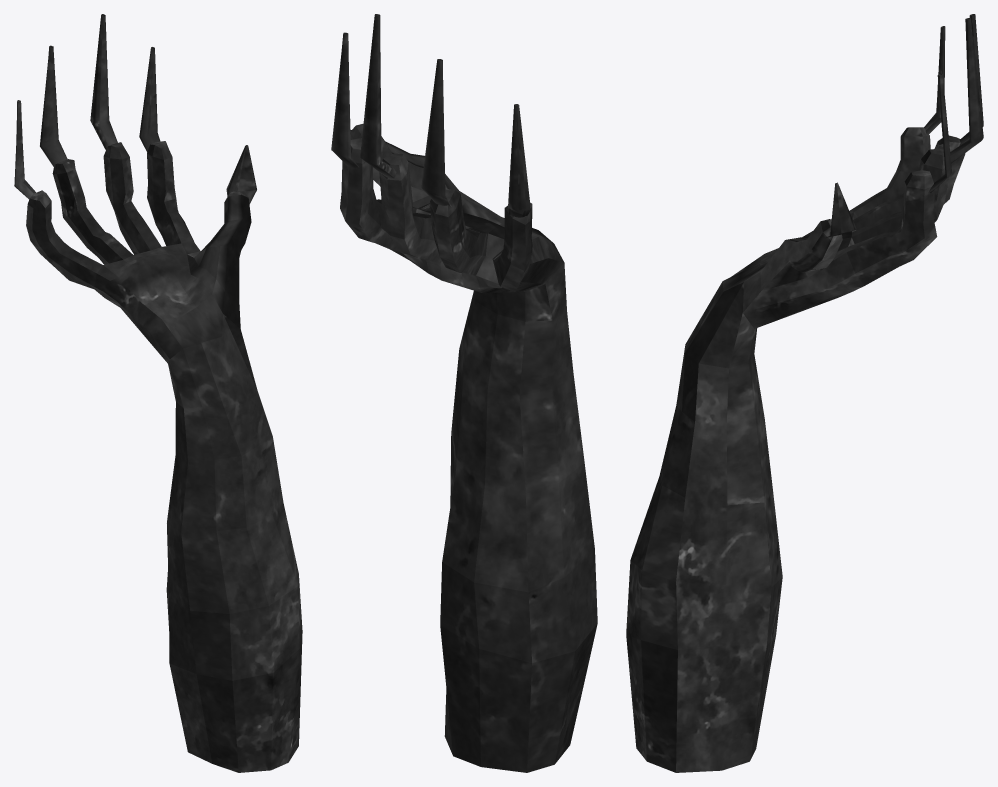
File: DemonHand.fbx
3 renders of one model, left to right at view 1: azimuth 30°, elevation 25°; view 2: azimuth 150°, elevation 25°; view 3: azimuth 270°, elevation 25°, orthographic. The views are drawn at different scales.
Parts seen in each view (by area): view 1: polySurface1; view 2: polySurface1; view 3: polySurface1.
Boxes of the visible parts, x1,y1,x2,y2 form: polySurface1: (14,14,302,772); polySurface1: (331,14,597,772); polySurface1: (626,14,983,772).
Size of the model in its own units: 4.05 by 12.93 by 5.81.
